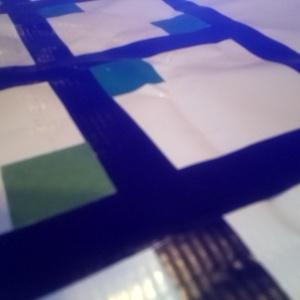bottom_right: (56, 57, 164, 97), (10, 1, 85, 19)
top_left: (1, 142, 153, 244), (152, 14, 221, 42)
